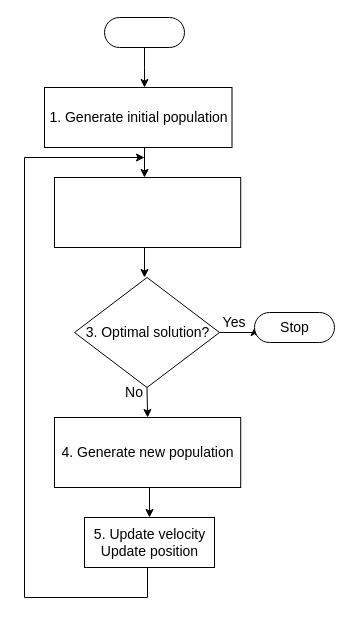
The diagram is 352 pixels wide and 623 high, and some of its shapes have lost their labels. The shapes that lost their labels are listed below. From the top down, each one's centre as x and y in pixels, then its label:
point (144, 32): Start
point (147, 212): 2. Evaluate individual fitness Update personal best Update global best
